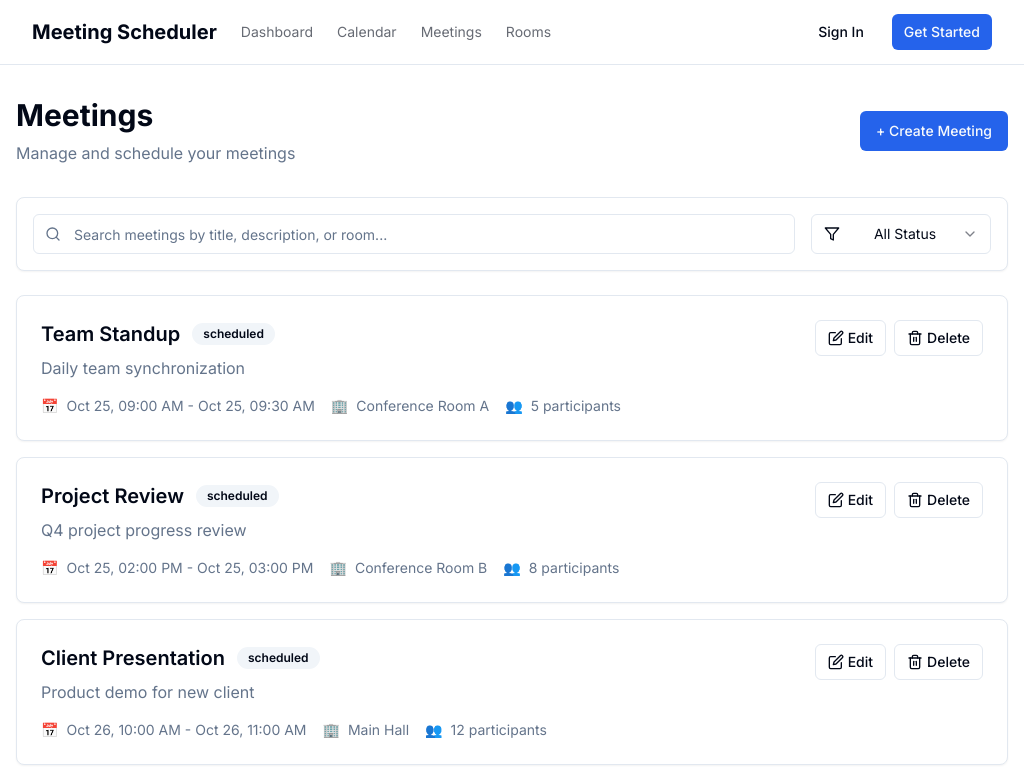
MeetingsPage › clears filters when Clear Filters button is clicked
Step 1. Type "NonexistentMeeting12345" into the field with placeholder "Search meetings by title, description, or room..." → (414, 234), box left=33, top=214, right=795, bottom=254
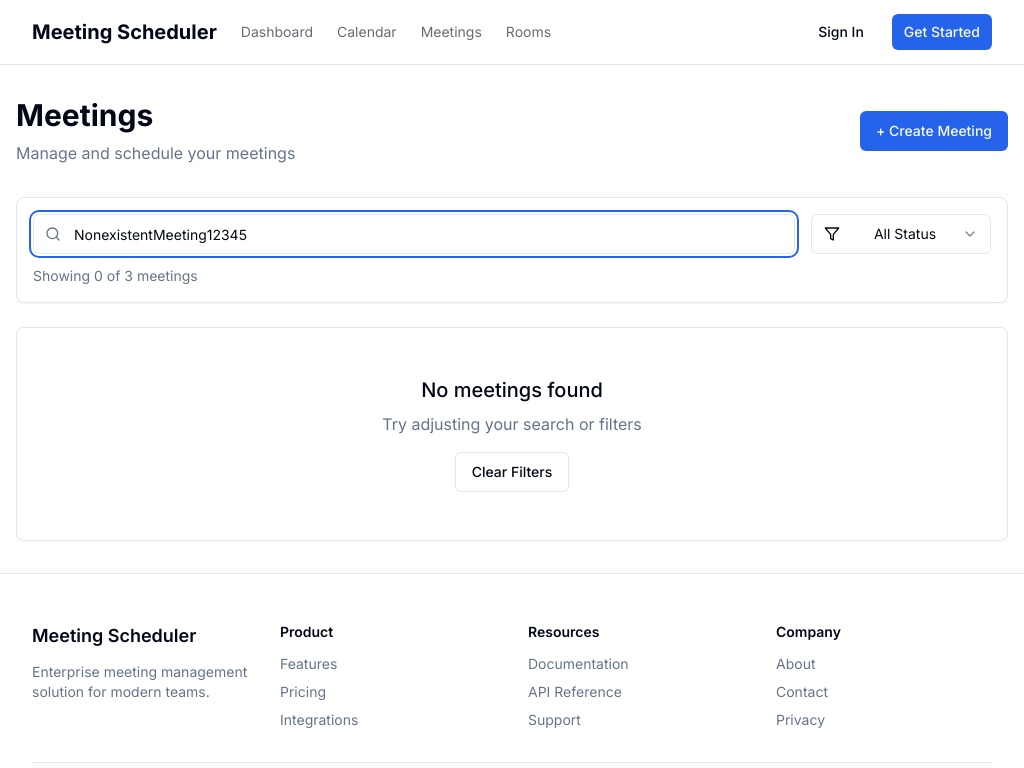
Step 2. Click the button "Clear Filters" → (512, 472), box left=455, top=452, right=569, bottom=492
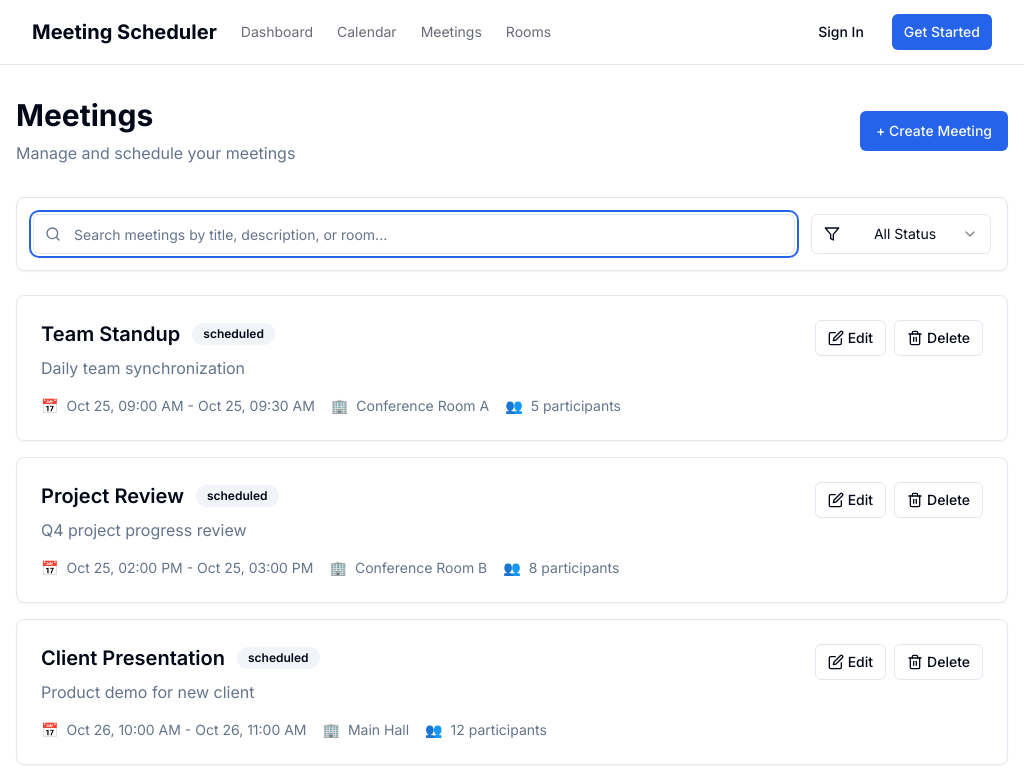
Result: the heading "Team Standup" is shown at left=41, top=320, right=180, bottom=348
